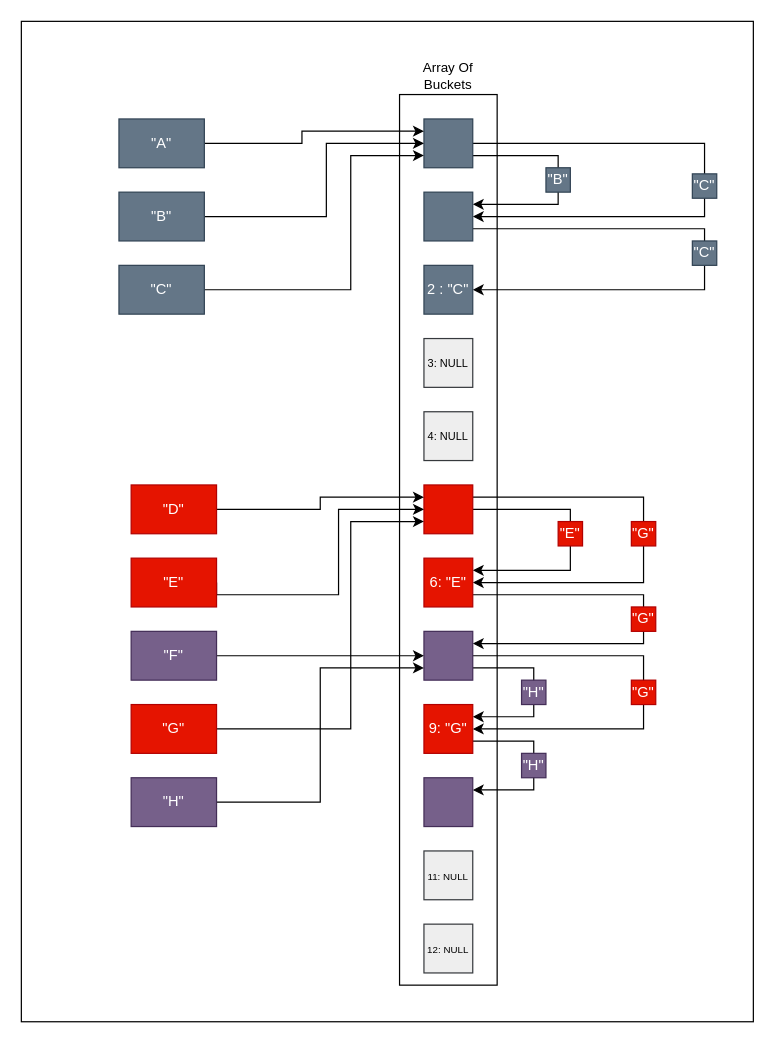
Some shapes in this 775 by 1043 pixel diagram are drawn without their labels. Each missing label, with the centre of its shape:
0 : "A": pixel 448 143
1 : "B": pixel 448 216
10: "H": pixel 448 802
5 : "D": pixel 448 509
7: "F": pixel 448 655
